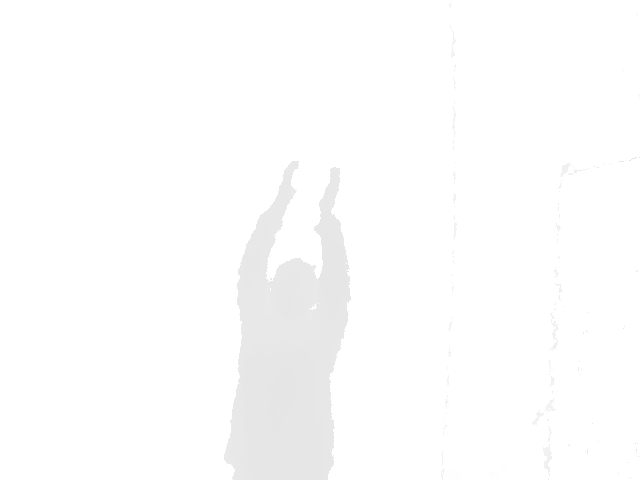hand: (276, 160, 298, 208), (317, 166, 340, 210)
head: (268, 258, 320, 316)
person: (222, 159, 353, 480)
